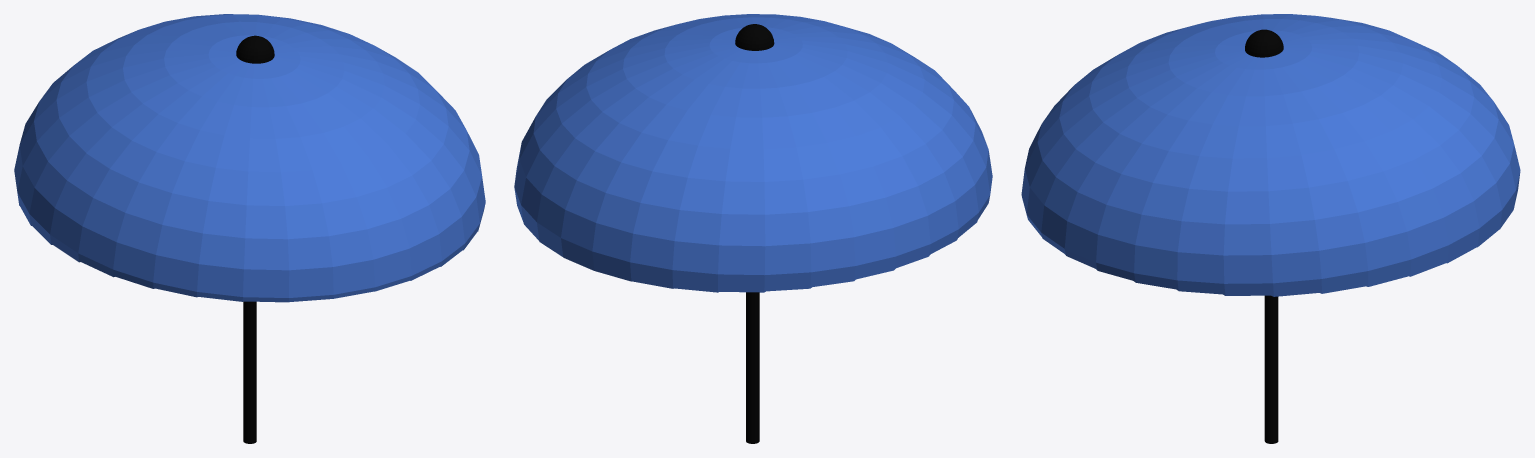
Rendered from umbrella.glb.
3 views of the same model, side by side, from view 1: azimuth 30°, elevation 25°; view 2: azimuth 150°, elevation 25°; view 3: azimuth 270°, elevation 25° (orthographic).
Visible parts, largest first — view 1: Sphere, Cylinder, Sphere.001; view 2: Sphere, Cylinder, Sphere.001; view 3: Sphere, Cylinder, Sphere.001.
Part boxes in pixels (<box>): Sphere: <box>14,14,485,302</box>; Cylinder: <box>243,301,256,443</box>; Sphere.001: <box>236,35,274,63</box>; Sphere: <box>514,14,992,292</box>; Cylinder: <box>746,292,759,443</box>; Sphere.001: <box>735,24,774,50</box>; Sphere: <box>1021,14,1520,296</box>; Cylinder: <box>1264,295,1278,443</box>; Sphere.001: <box>1245,29,1283,57</box>.
Bounding box in the file's own units: 2.82 × 2.72 × 3.
